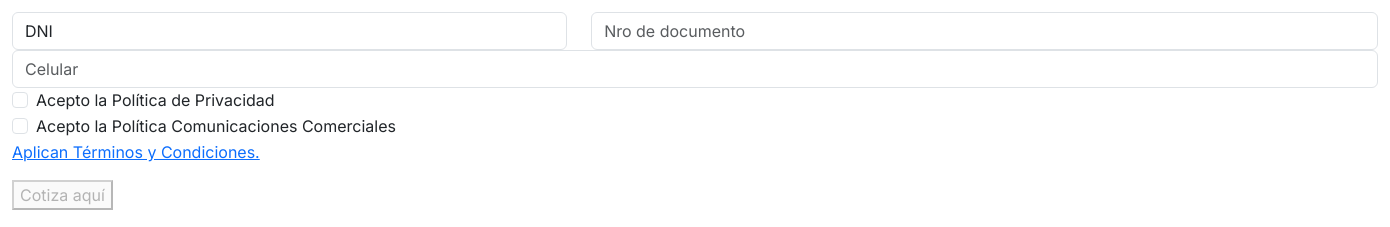
it: FormHome Component › los checbox deben estar habilitados para activar boton
Expected: the button "Cotiza aquí" is disabled, [12,180,113,210]
# se marcan las casillas y se llenan los inputs
Click the checkbox labelled "Acepto la Política de Privacidad" at (20, 100), box [12,92,28,108]
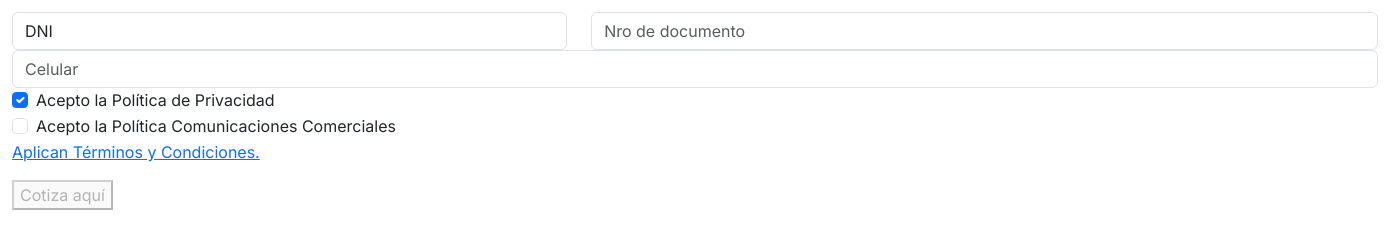
Click the checkbox labelled "Acepto la Política Comunicaciones Comerciales" at (20, 126), box [12,118,28,134]
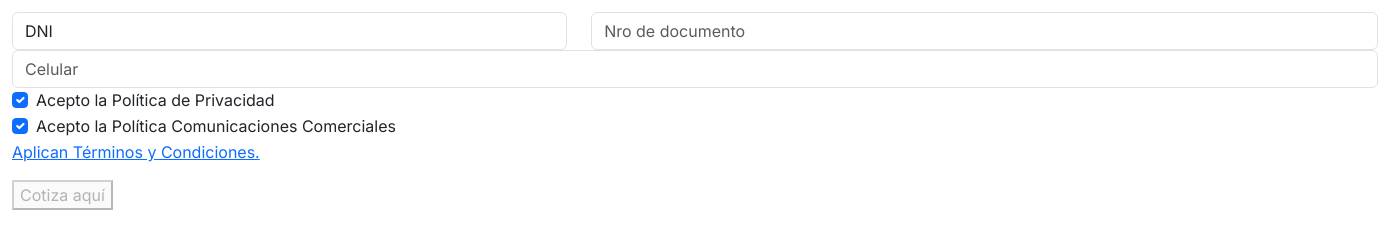
Type "123456789" into the field with placeholder "Celular" at (695, 69), box [12,50,1378,88]
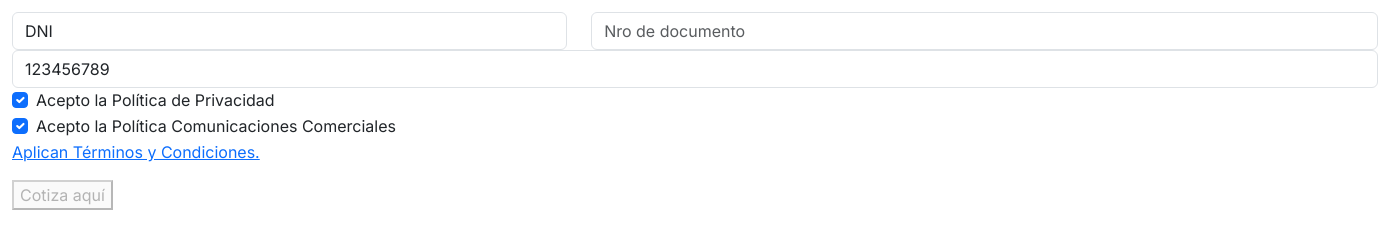
Type "12345678" into the field with placeholder "Nro de documento" at (985, 31), box [591,12,1378,50]
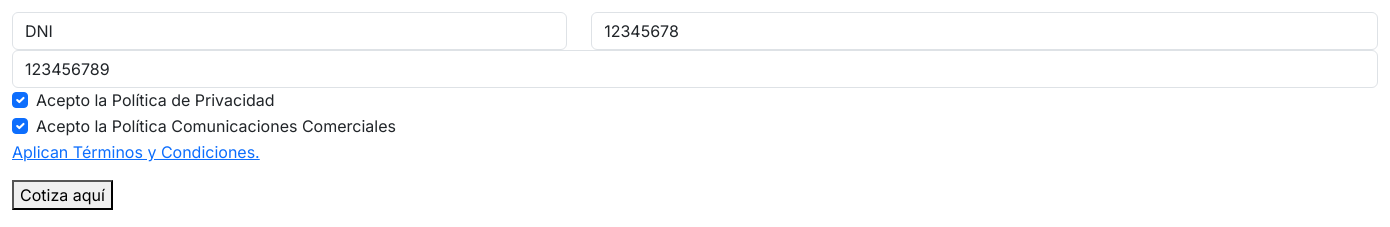
Result: the button "Cotiza aquí" is enabled at [12,180,113,210]
